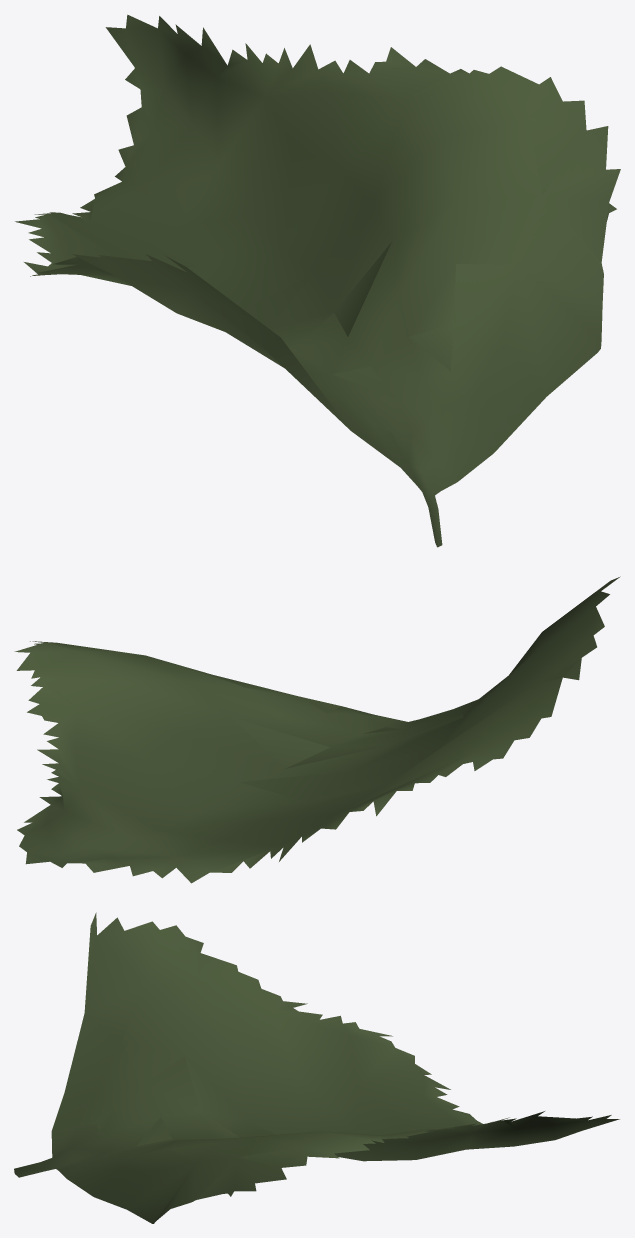
The model's file is trees-leaves-elm-leaf_v1.glb.
3 views of the same model, one above another, from view 1: azimuth 30°, elevation 25°; view 2: azimuth 150°, elevation 25°; view 3: azimuth 270°, elevation 25° (orthographic). The views are drawn at different scales.
Visible parts, largest first — view 1: Elm Leaf_v1; view 2: Elm Leaf_v1; view 3: Elm Leaf_v1.
Boxes of the visible parts, x1,y1,x2,y2 form: Elm Leaf_v1: (15, 14, 620, 547); Elm Leaf_v1: (14, 576, 620, 883); Elm Leaf_v1: (14, 912, 619, 1223).
Bounding box in the file's own units: 0.0773 × 0.0356 × 0.1.
